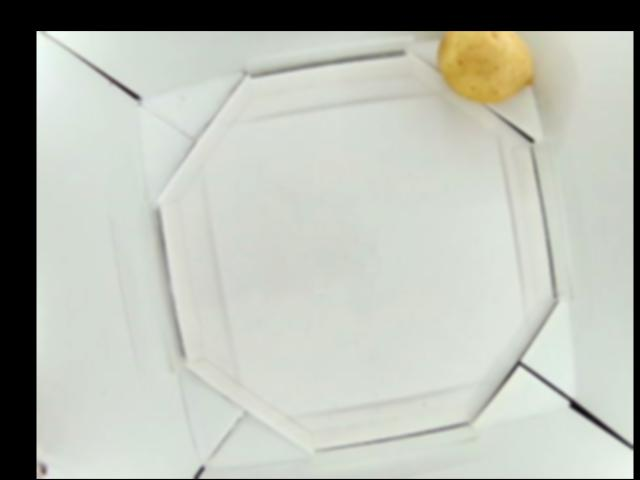Potato: (439, 32, 537, 104)
